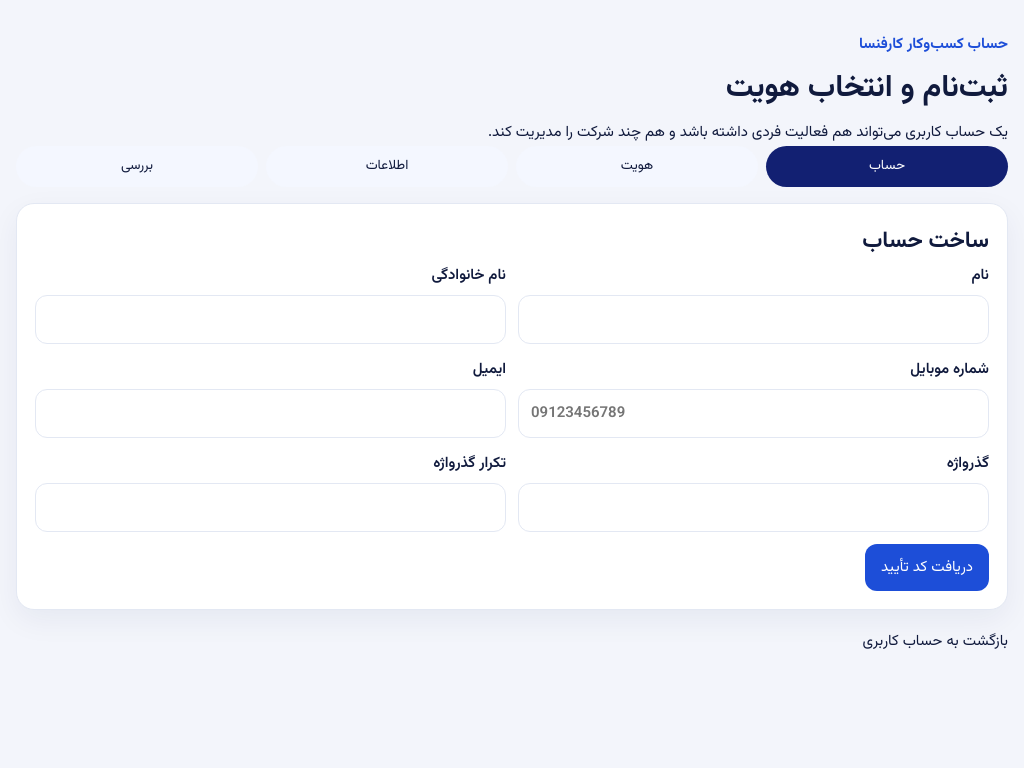
Scenario: JoinPage › keeps password confirmation errors on the account step
Expected: the heading "ساخت حساب" is shown, 862,224 -> 989,259
Type "سارا" into the field labelled "نام".
click(754, 320); type("سارا")  # box 518,295 -> 989,344
Type "احمدی" into the field labelled "نام خانوادگی".
click(270, 320); type("احمدی")  # box 35,295 -> 506,344
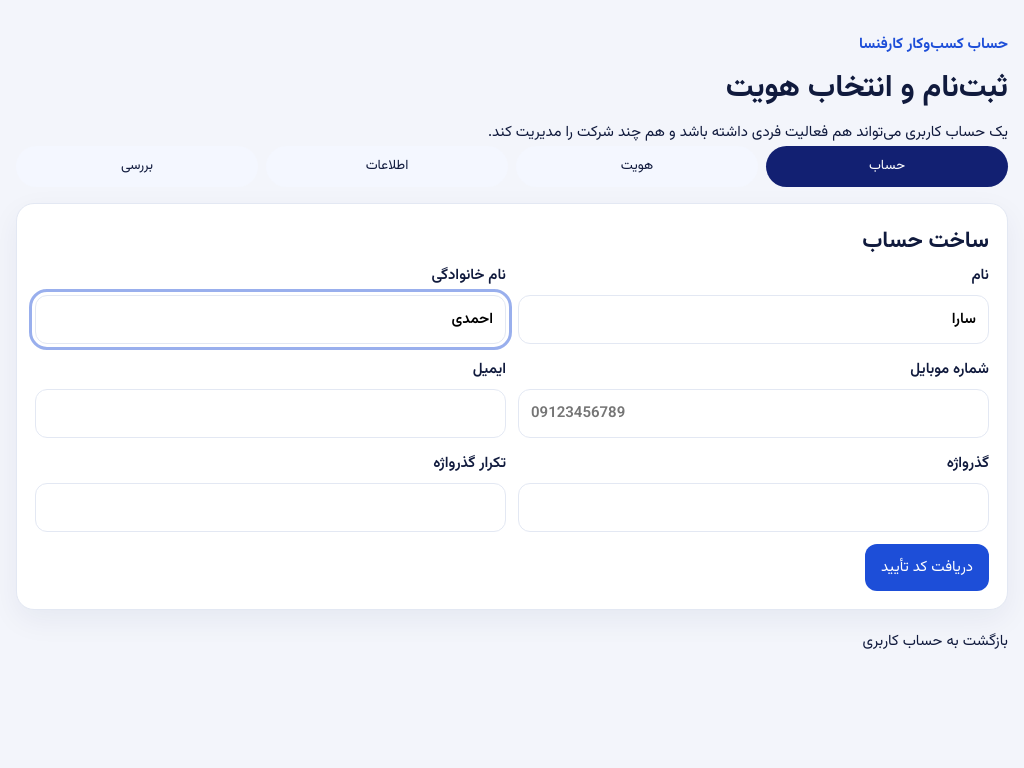
Type "09120000000" into the field labelled "شماره موبایل".
click(754, 414); type("09120000000")  # box 518,389 -> 989,438
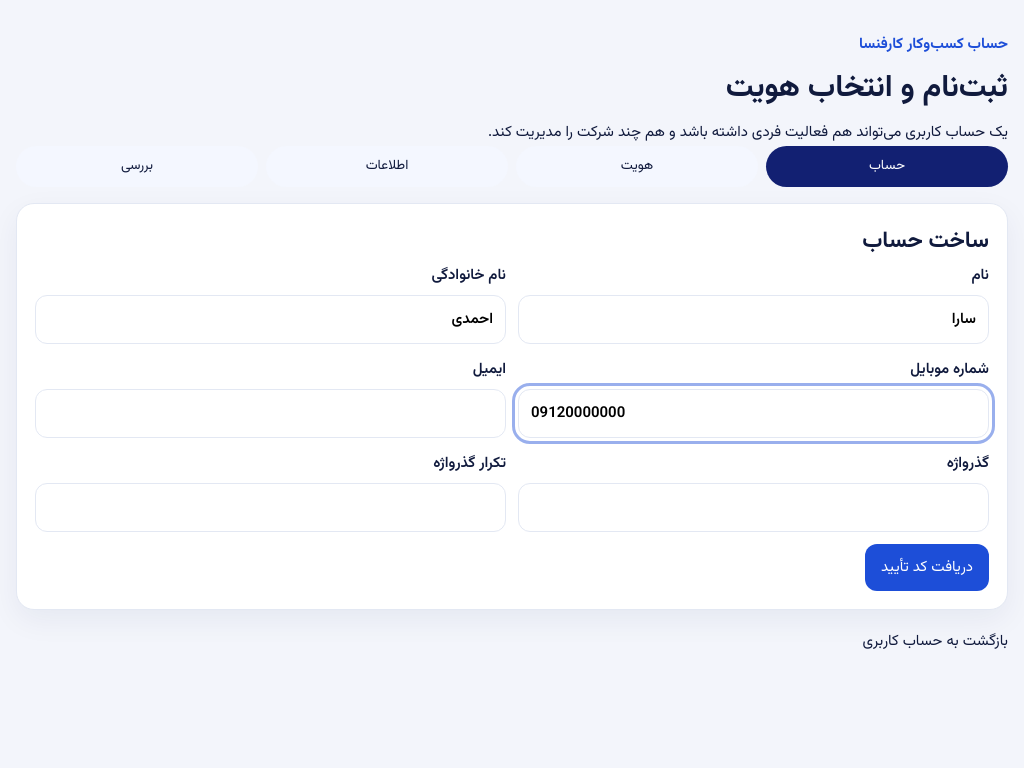
Type "sara@example.com" into the field labelled "ایمیل".
click(270, 414); type("sara@example.com")  # box 35,389 -> 506,438
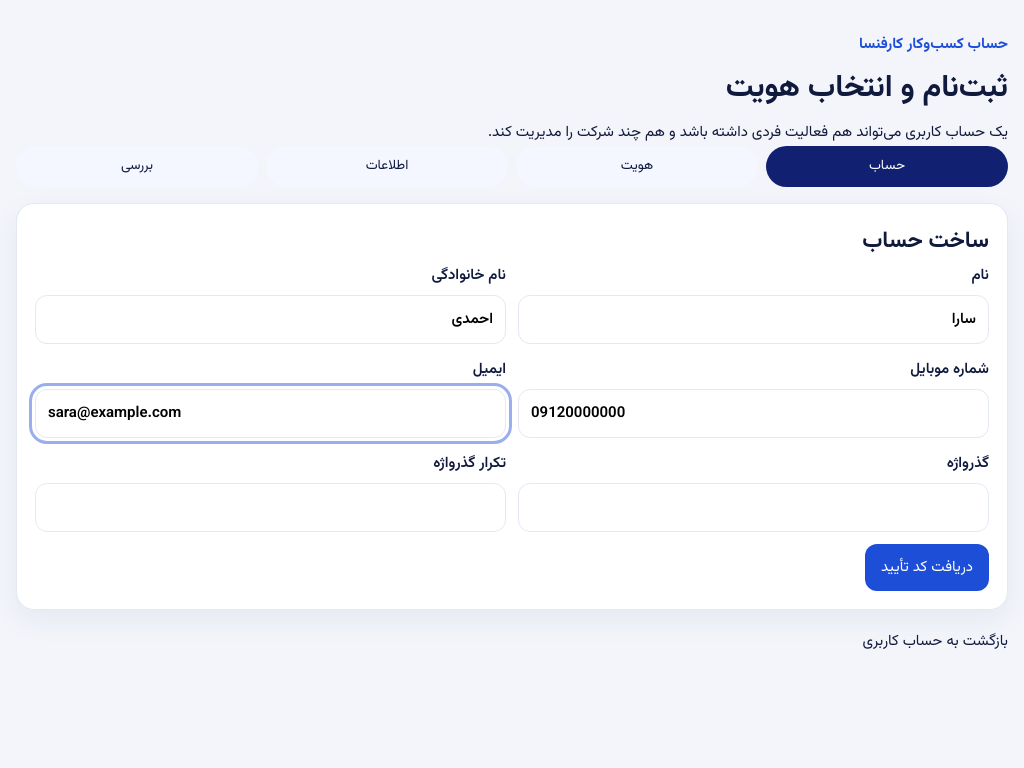
Type "Qw9!sX4mN2#kL7pV" into the password field labelled "گذرواژه".
click(754, 508); type("Qw9!sX4mN2#kL7pV")  # box 518,483 -> 989,532
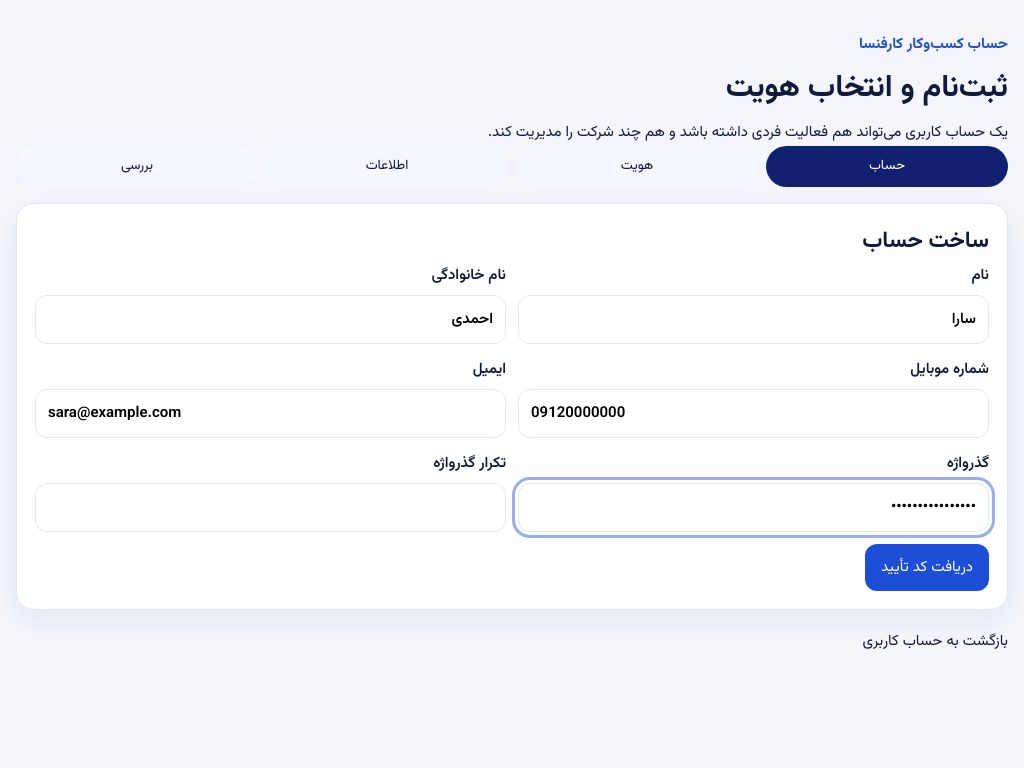
Type "different-password" into the password field labelled "تکرار گذرواژه".
click(270, 508); type("different-password")  # box 35,483 -> 506,532
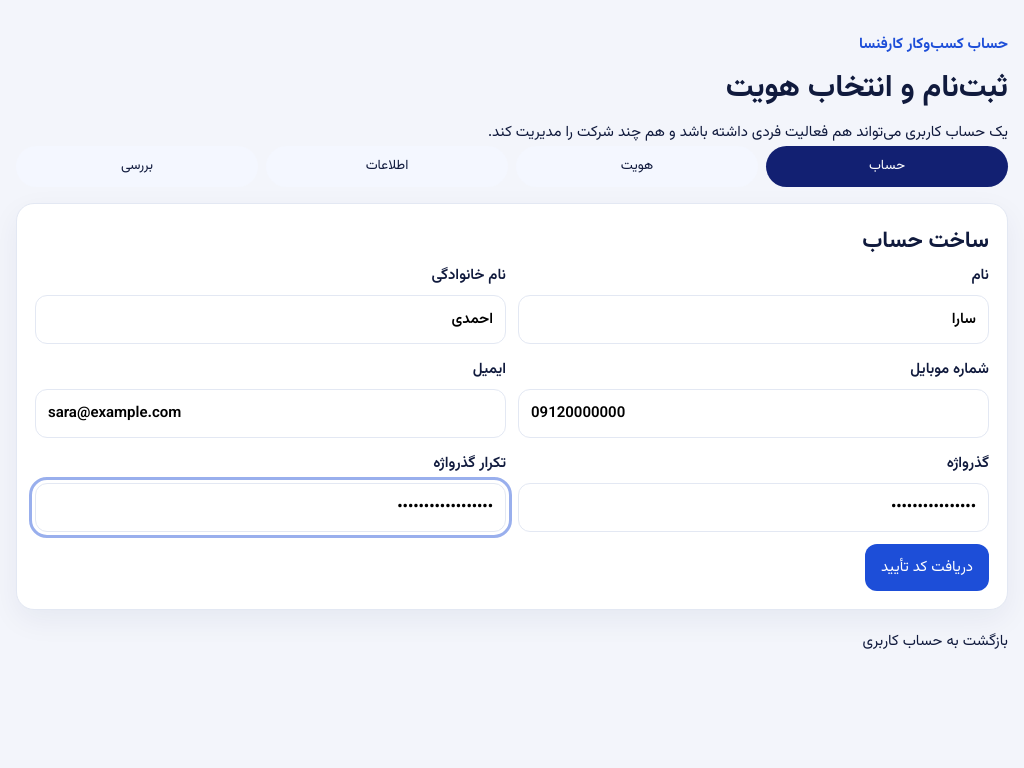
Click the button "دریافت کد تأیید".
click(927, 568)  # box 865,544 -> 989,591
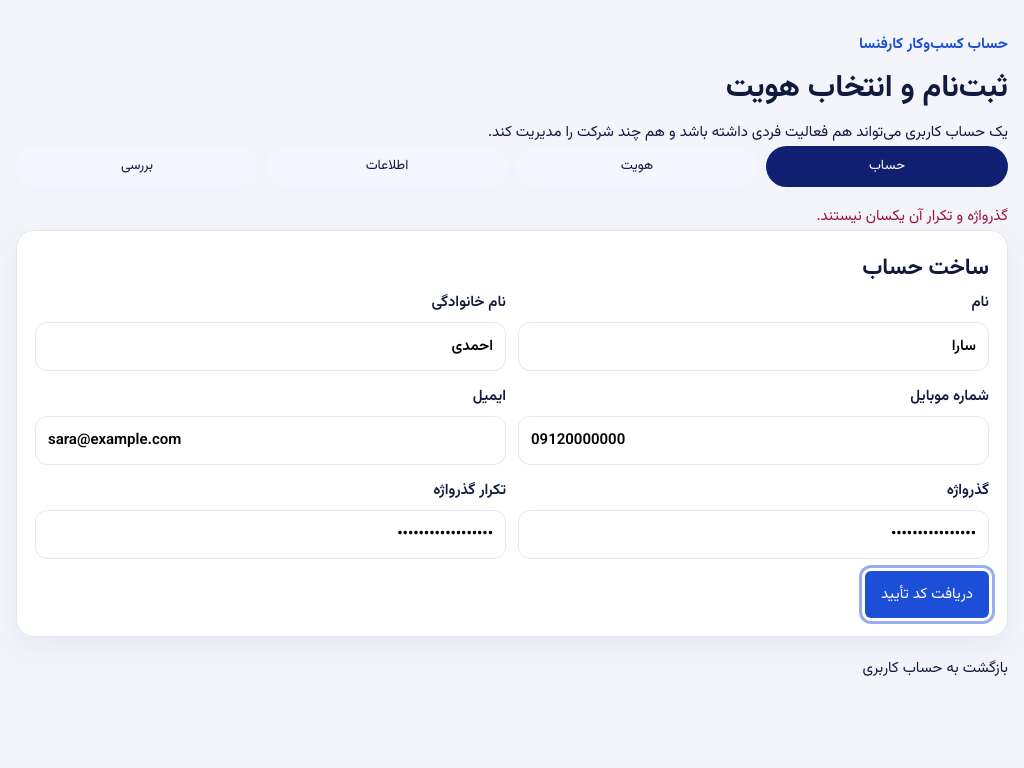
Expected: the message reads "گذرواژه و تکرار آن یکسان نیستند.", 816,205 -> 1008,228
